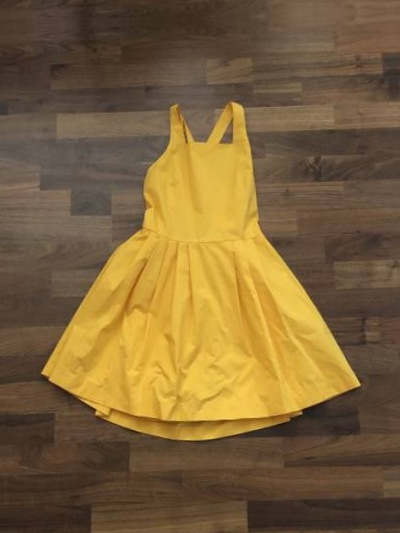Dress: (15, 53, 375, 464)
